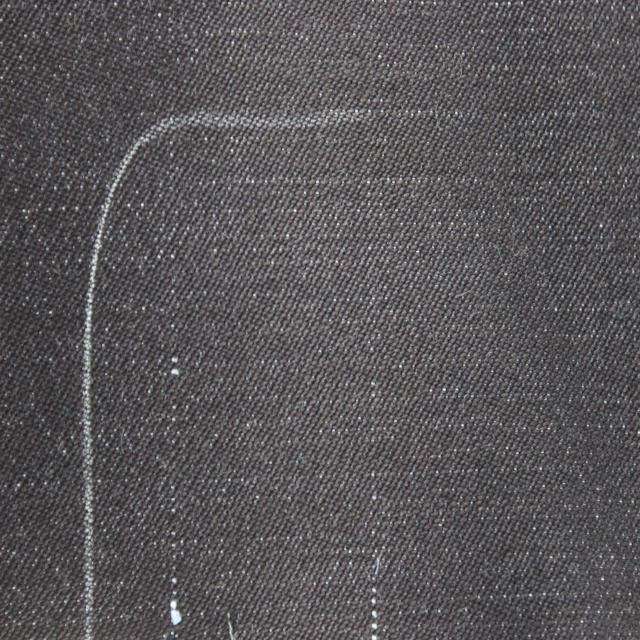pulled_or_thick_thread: (169, 353, 183, 630), (369, 562, 379, 640)
